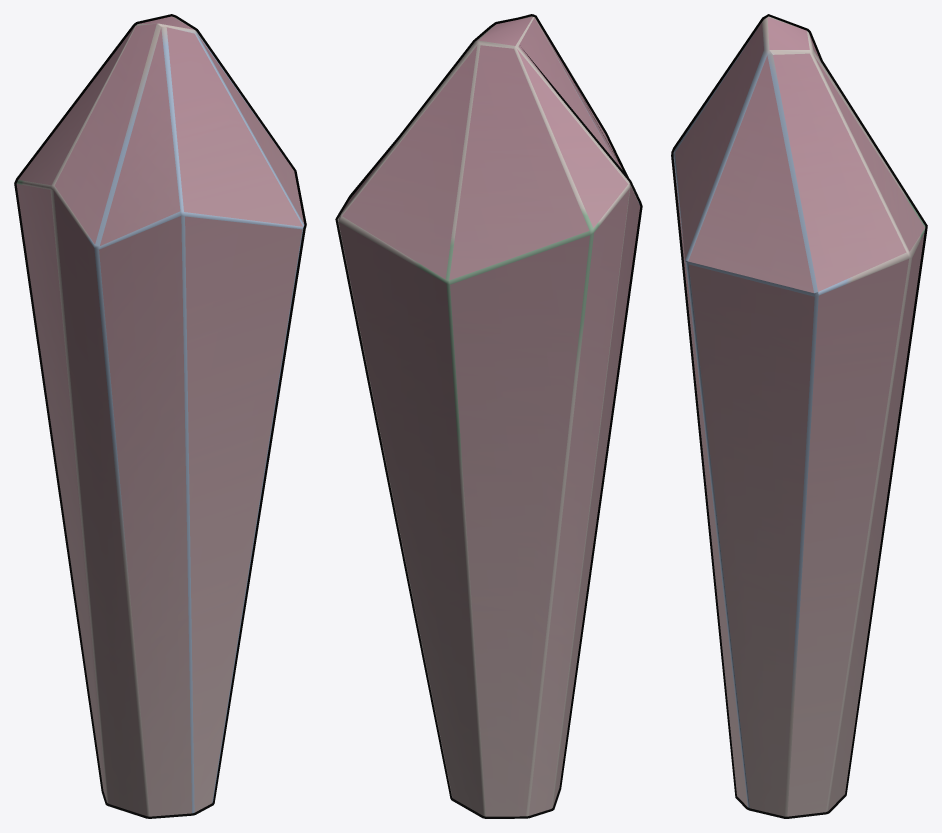
File: Rooms_Paradise_Crystal_Small_02_Art.fbx
3 views of the same model, side by side, from view 1: azimuth 30°, elevation 25°; view 2: azimuth 150°, elevation 25°; view 3: azimuth 270°, elevation 25° (orthographic).
Visible parts, largest first — view 1: Rooms_Paradise_Crystal_Small_02_Art, Rooms_Paradise_Crystal_Small_02_Outliner; view 2: Rooms_Paradise_Crystal_Small_02_Art, Rooms_Paradise_Crystal_Small_02_Outliner; view 3: Rooms_Paradise_Crystal_Small_02_Art, Rooms_Paradise_Crystal_Small_02_Outliner.
Part boxes in pixels (x1,y1,x2,y2): Rooms_Paradise_Crystal_Small_02_Art: (16, 16, 304, 816); Rooms_Paradise_Crystal_Small_02_Outliner: (14, 14, 306, 818); Rooms_Paradise_Crystal_Small_02_Art: (337, 16, 640, 816); Rooms_Paradise_Crystal_Small_02_Outliner: (335, 14, 642, 818); Rooms_Paradise_Crystal_Small_02_Art: (673, 16, 925, 816); Rooms_Paradise_Crystal_Small_02_Outliner: (671, 14, 927, 818).
Size of the model in its own units: 113 by 320 by 95.95.
